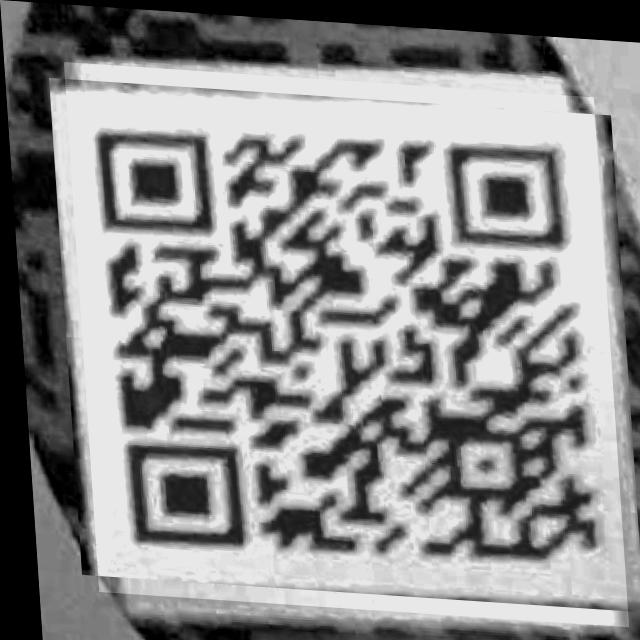qr_code: (63, 61, 621, 619)
